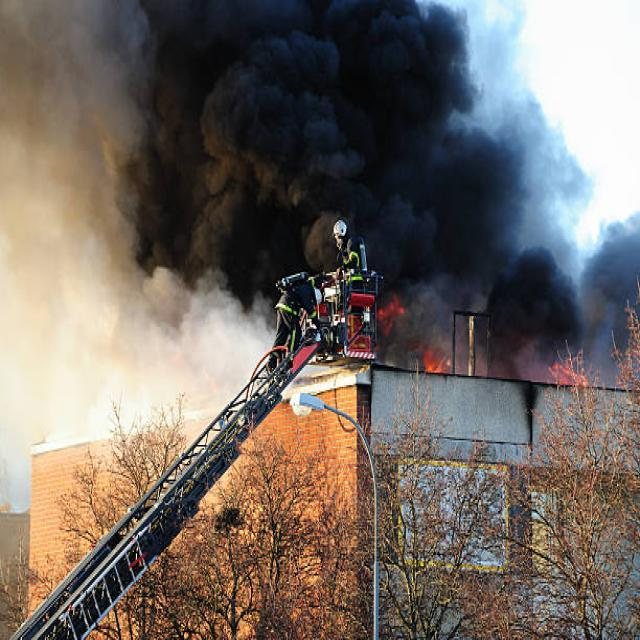Fire: (422, 350, 478, 378), (551, 352, 588, 392), (378, 292, 403, 336)
Smoke: (111, 0, 590, 369), (0, 0, 270, 400), (586, 190, 640, 349)
